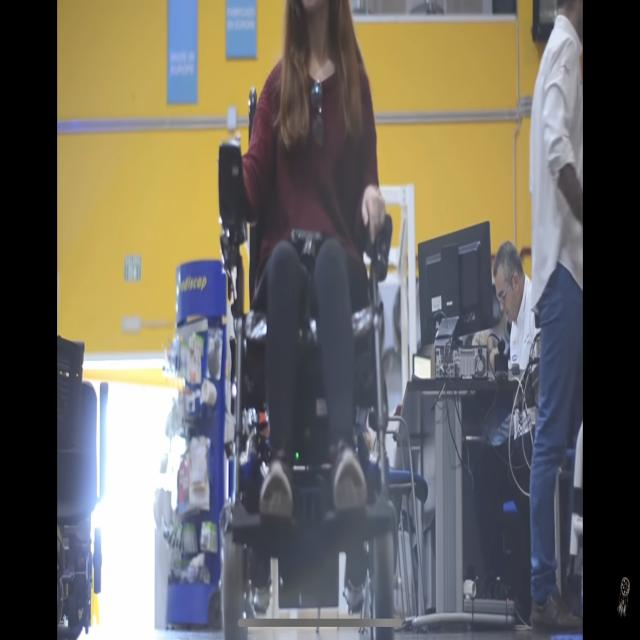wheelchairs: (217, 84, 400, 640), (57, 333, 109, 640)
